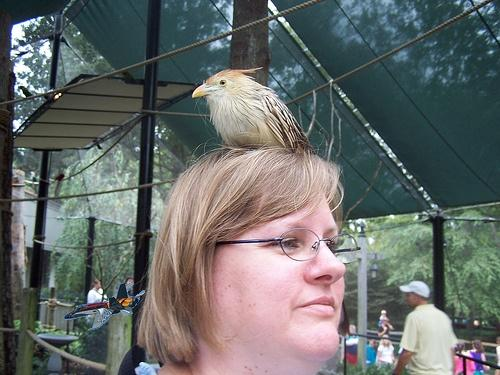tampered: (65, 283, 145, 330)
